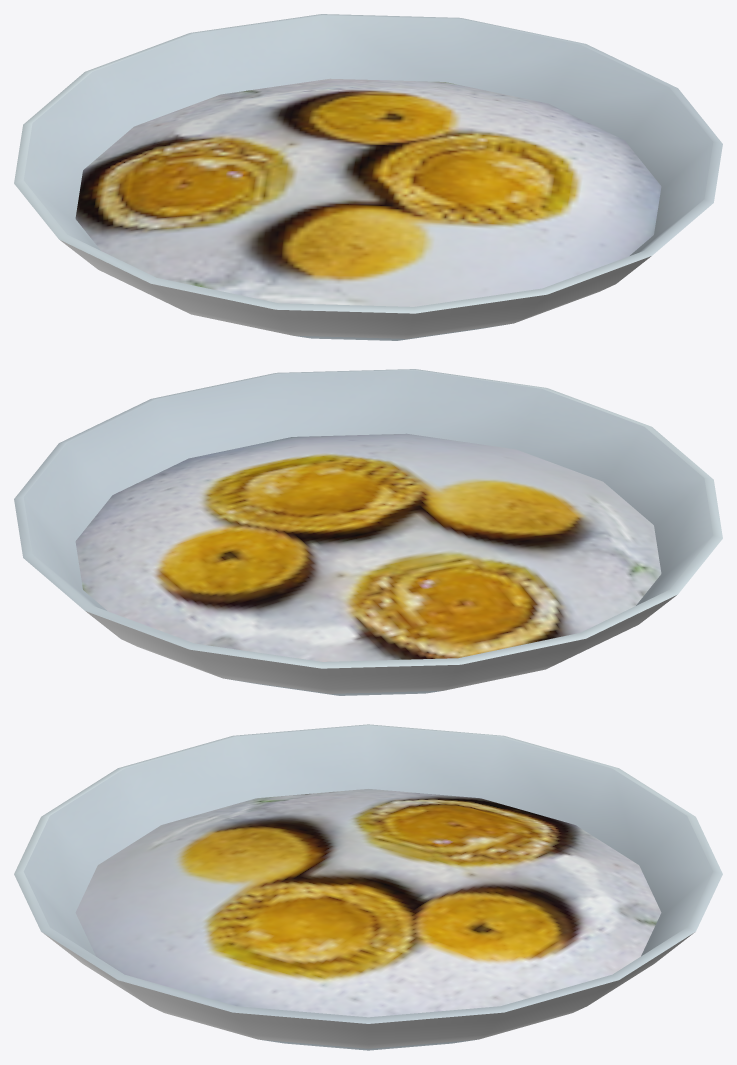
The model's file is prop_foodmenu25.fbx.
3 renders of one model, top to bottom at view 1: azimuth 30°, elevation 25°; view 2: azimuth 150°, elevation 25°; view 3: azimuth 270°, elevation 25°, orthographic.
Visible parts, largest first — view 1: prop_foodmenu25; view 2: prop_foodmenu25; view 3: prop_foodmenu25.
Part boxes in pixels (box(x1,y1,x2,y2)): prop_foodmenu25: box(14, 14, 722, 340); prop_foodmenu25: box(14, 369, 722, 695); prop_foodmenu25: box(14, 724, 722, 1050).
Size of the model in its own units: 0.2933 by 0.0482 by 0.2933.
